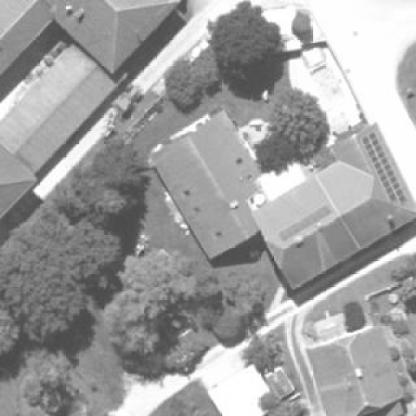solar-pv-panel: (361, 132, 408, 205), (277, 204, 333, 243)
